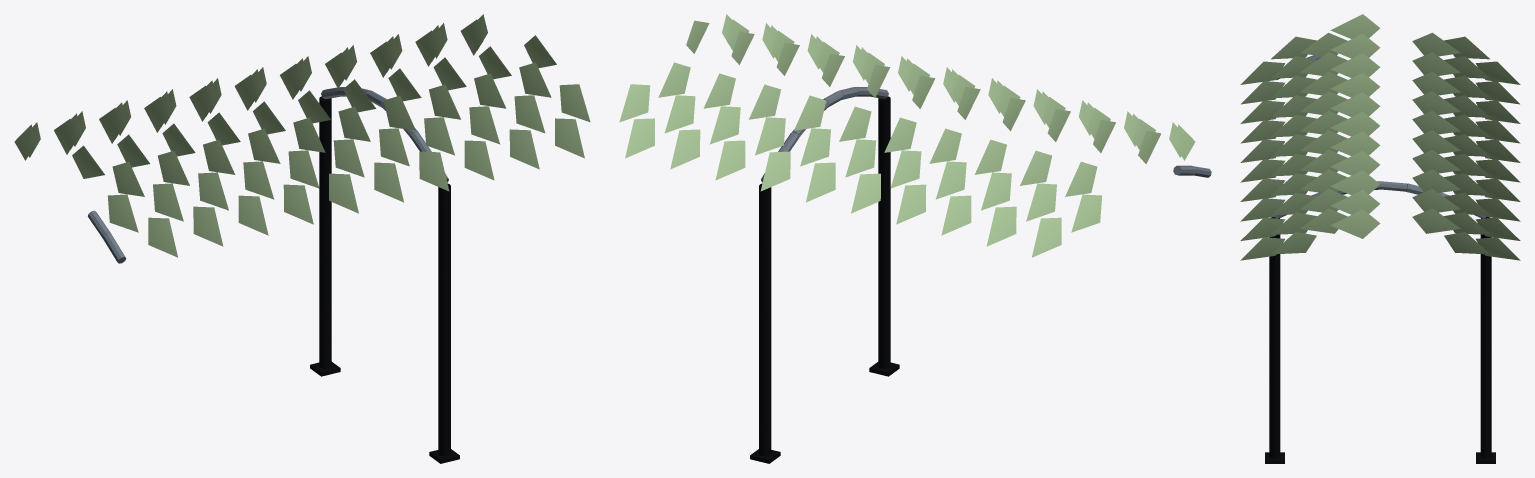
The model's file is tt_bridges_canopy_b.glb.
The picture shows the model from 3 angles, left to right: view 1: azimuth 30°, elevation 25°; view 2: azimuth 150°, elevation 25°; view 3: azimuth 270°, elevation 25°; orthographic projection. The views are drawn at different scales.
Parts seen in each view (by area): view 1: Canopy_Leaves, Canopy_Posts, Canopy_Ribs; view 2: Canopy_Leaves, Canopy_Posts, Canopy_Ribs; view 3: Canopy_Leaves, Canopy_Posts, Canopy_Ribs, Canopy_Footplate.
Boxes of the visible parts, x1=… form: Canopy_Leaves: x1=14, y1=14, x2=590, y2=257; Canopy_Posts: x1=319, y1=96, x2=450, y2=456; Canopy_Ribs: x1=88, y1=87, x2=448, y2=263; Canopy_Leaves: x1=619, y1=14, x2=1195, y2=257; Canopy_Posts: x1=759, y1=96, x2=890, y2=456; Canopy_Ribs: x1=761, y1=87, x2=1211, y2=182; Canopy_Leaves: x1=1240, y1=14, x2=1520, y2=260; Canopy_Posts: x1=1269, y1=217, x2=1491, y2=458; Canopy_Ribs: x1=1275, y1=55, x2=1485, y2=218; Canopy_Footplate: x1=1265, y1=452, x2=1495, y2=463.
Size of what is drawn, in the model's own units: 4.4 by 3.12 by 2.55.
3 materials, 2 textured.
